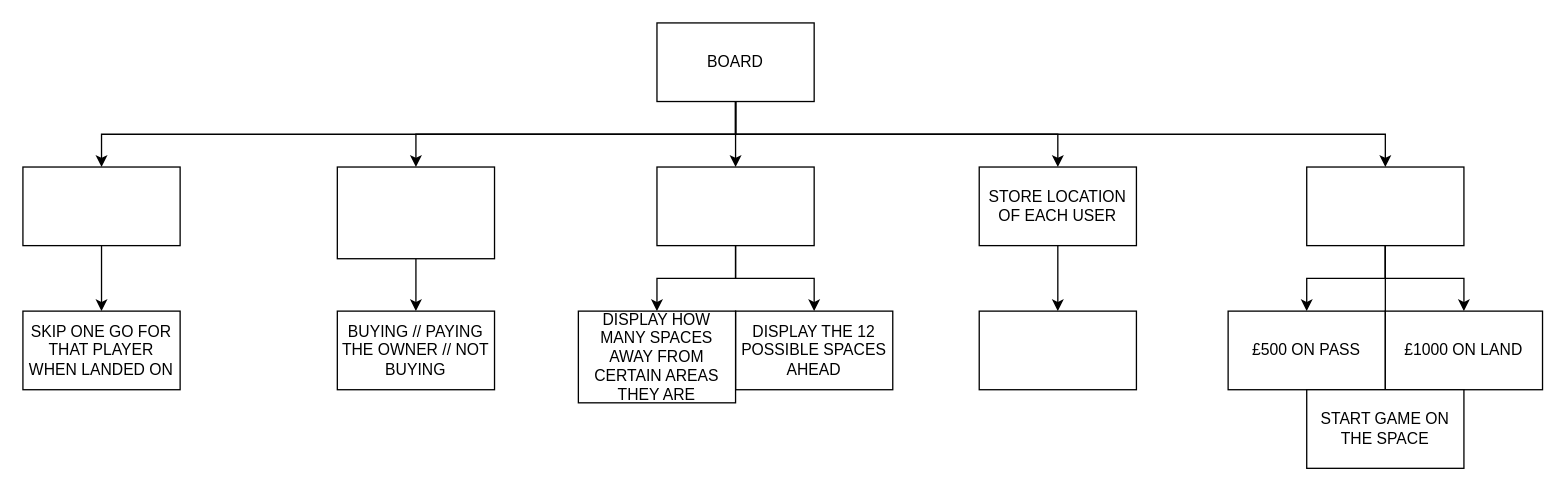
Image size: 1565x491. Some labels were removed from this diagram. Each missing label, with the centre of its shape:
"MISS A GO" SPACE: [101,206]
"START" SPACE: [1384,206]
DISPLAY BOARD TO USERS: [735,206]
GIVE INSTRUCTIONS TO THE PLAYER WHEN THEY LAND ON SPACES: [415,212]
STORE NUMBER OF PLAYERS + THEIR LOCATIONS: [1057,350]
